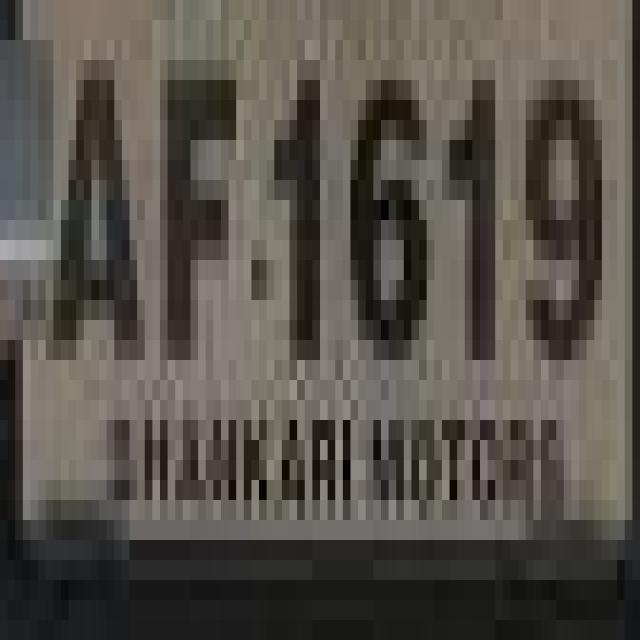license_plate: (15, 20, 640, 580)
